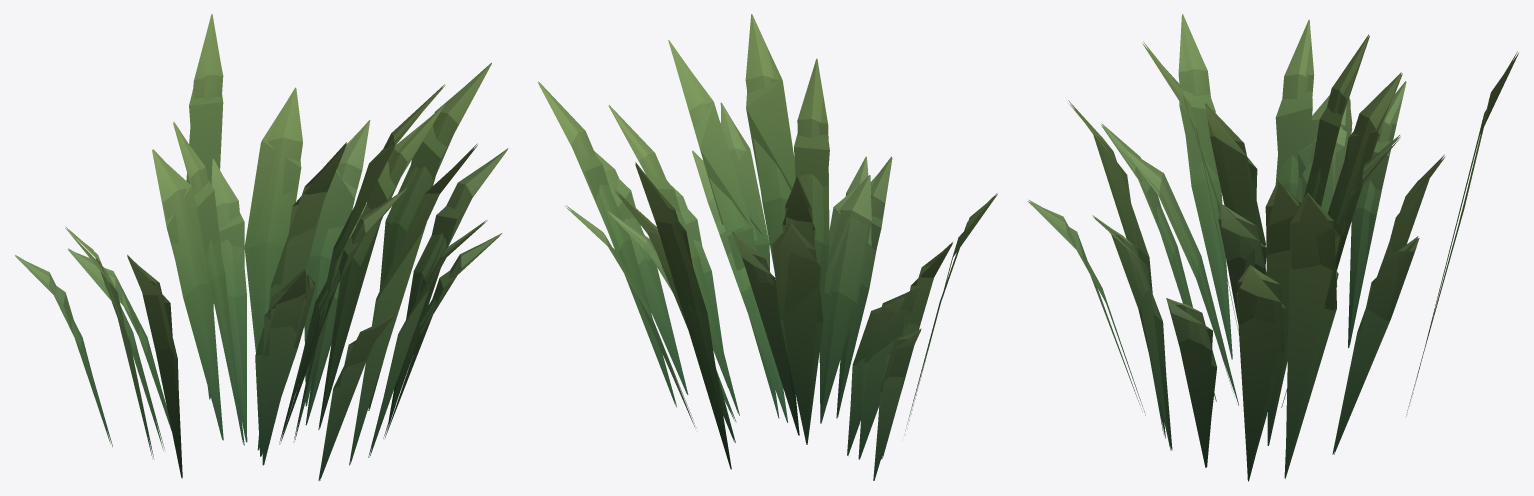
The model's file is Grass.glb.
The picture shows the model from 3 angles, left to right: view 1: azimuth 30°, elevation 25°; view 2: azimuth 150°, elevation 25°; view 3: azimuth 270°, elevation 25°; orthographic projection. The views are drawn at different scales.
Parts seen in each view (by area): view 1: Grass_L0, Grass_L2, Grass_L1; view 2: Grass_L0, Grass_L2, Grass_L1; view 3: Grass_L2, Grass_L0, Grass_L1.
Part boxes in pixels (left/top/right/bottom): Grass_L0: left=15, top=14, right=508, bottom=480; Grass_L2: left=16, top=64, right=507, bottom=480; Grass_L1: left=15, top=49, right=485, bottom=480; Grass_L0: left=538, top=14, right=996, bottom=480; Grass_L2: left=554, top=46, right=997, bottom=479; Grass_L1: left=537, top=43, right=997, bottom=480; Grass_L2: left=1027, top=36, right=1518, bottom=481; Grass_L0: left=1028, top=14, right=1517, bottom=480; Grass_L1: left=1028, top=30, right=1518, bottom=480.
Size of the model in its own units: 0.6009 by 0.4504 by 0.5027.
